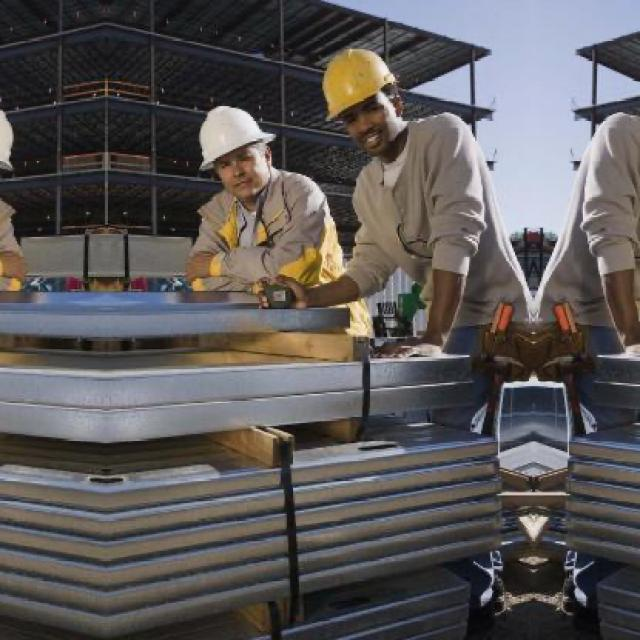helmet: (318, 50, 406, 156), (193, 104, 276, 198), (0, 103, 22, 199)
